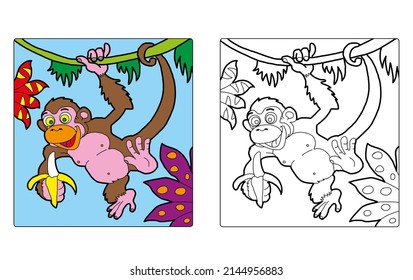animal: (237, 92, 353, 215), (38, 88, 146, 215)
